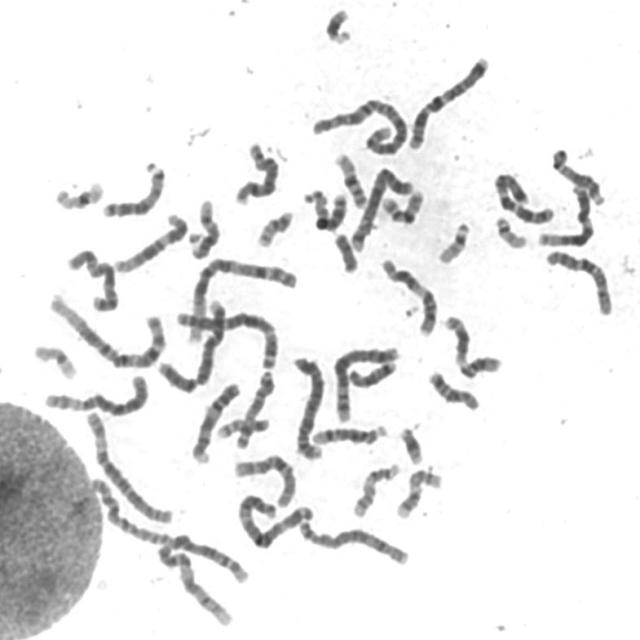A1: (180, 252, 299, 346), (43, 287, 169, 371)
A2: (85, 469, 249, 594), (307, 91, 412, 156)
A3: (170, 304, 282, 371), (232, 488, 316, 551)
B4: (154, 296, 230, 393), (288, 350, 328, 462)
B5: (346, 162, 415, 254), (330, 341, 400, 424)
C10: (540, 245, 616, 318), (229, 448, 299, 509)
C11: (377, 254, 440, 338), (438, 309, 504, 380)
C12: (109, 207, 192, 274), (533, 179, 595, 249)
C6: (80, 406, 174, 526), (40, 370, 151, 417)
C7: (403, 50, 492, 151), (489, 167, 558, 227)
C8: (294, 516, 412, 568), (230, 137, 282, 206)
C9: (154, 538, 236, 629), (187, 377, 243, 465)
D13: (96, 156, 166, 221), (302, 183, 349, 233)
D14: (307, 419, 390, 449), (186, 194, 222, 260)
D15: (232, 366, 278, 452), (547, 143, 607, 207)
E16: (330, 147, 370, 210), (377, 185, 427, 226)
E17: (349, 459, 403, 519), (392, 464, 444, 521)
E18: (424, 366, 482, 413), (346, 358, 398, 389)
F19: (50, 175, 107, 213), (29, 339, 79, 381)
F20: (252, 206, 296, 249), (212, 412, 270, 441)
G21: (320, 2, 354, 46), (394, 421, 426, 466)
G22: (433, 217, 473, 266), (491, 211, 531, 250)
X: (62, 243, 121, 314)
Y: (330, 228, 360, 274)
